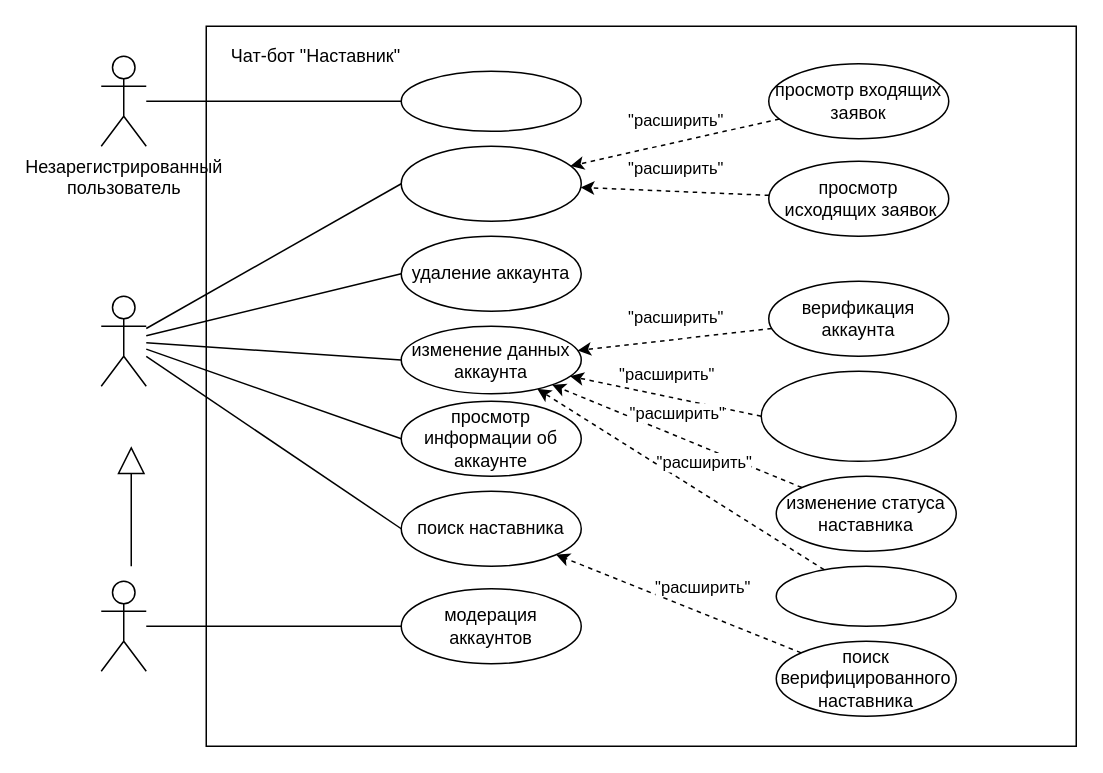
Image size: 1103x773. Some labels were removed from this diagram. The box of each missing label's shape, as (x1, y1, x2, y2) in pixels:
Зарегистрированный пользователь: (100, 295, 146, 386)
изменение личной информации: (760, 370, 956, 461)
изменение пароля для веб-версии: (775, 565, 956, 626)
Модератор: (100, 580, 146, 671)
просмотр "заявок в друзья": (400, 145, 581, 221)
регистрация: (400, 70, 581, 131)
